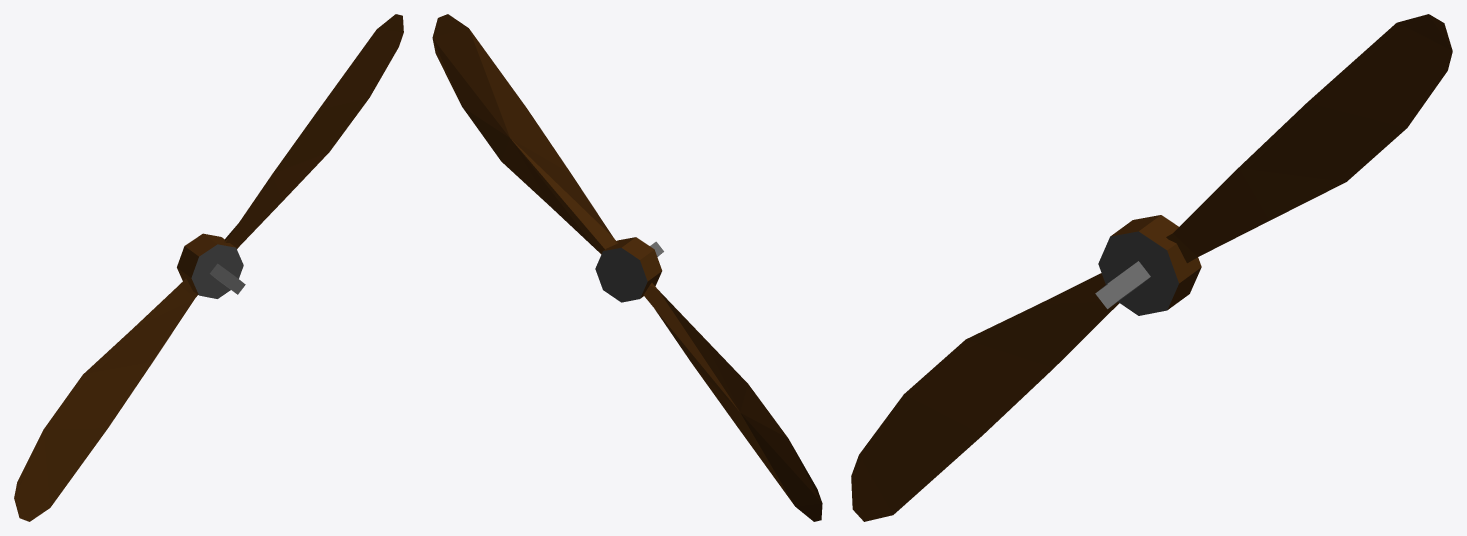
The model's file is Prop_camelF110.obj.
3 views of the same model, side by side, from view 1: azimuth 30°, elevation 25°; view 2: azimuth 150°, elevation 25°; view 3: azimuth 330°, elevation 25° (orthographic). The views are drawn at different scales.
Visible parts, largest first — view 1: ShapeIndexedFaceSet.036_ShapeIndexedFaceSet.037, ShapeIndexedFaceSet.054_ShapeIndexedFaceSet.055, ShapeIndexedFaceSet.053_ShapeIndexedFaceSet.054, ShapeIndexedFaceSet.045_ShapeIndexedFaceSet.046; view 2: ShapeIndexedFaceSet.036_ShapeIndexedFaceSet.037, ShapeIndexedFaceSet.054_ShapeIndexedFaceSet.055, ShapeIndexedFaceSet.053_ShapeIndexedFaceSet.054; view 3: ShapeIndexedFaceSet.036_ShapeIndexedFaceSet.037, ShapeIndexedFaceSet.054_ShapeIndexedFaceSet.055, ShapeIndexedFaceSet.053_ShapeIndexedFaceSet.054, ShapeIndexedFaceSet.045_ShapeIndexedFaceSet.046.
Boxes of the visible parts, left/top/right/bottom form: ShapeIndexedFaceSet.036_ShapeIndexedFaceSet.037: left=14, top=14, right=403, bottom=521; ShapeIndexedFaceSet.054_ShapeIndexedFaceSet.055: left=191, top=244, right=243, bottom=298; ShapeIndexedFaceSet.053_ShapeIndexedFaceSet.054: left=177, top=233, right=235, bottom=294; ShapeIndexedFaceSet.045_ShapeIndexedFaceSet.046: left=210, top=263, right=245, bottom=294; ShapeIndexedFaceSet.036_ShapeIndexedFaceSet.037: left=432, top=14, right=822, bottom=521; ShapeIndexedFaceSet.054_ShapeIndexedFaceSet.055: left=595, top=248, right=647, bottom=302; ShapeIndexedFaceSet.053_ShapeIndexedFaceSet.054: left=603, top=237, right=662, bottom=298; ShapeIndexedFaceSet.036_ShapeIndexedFaceSet.037: left=851, top=14, right=1452, bottom=521; ShapeIndexedFaceSet.054_ShapeIndexedFaceSet.055: left=1098, top=231, right=1178, bottom=315; ShapeIndexedFaceSet.053_ShapeIndexedFaceSet.054: left=1110, top=215, right=1201, bottom=309; ShapeIndexedFaceSet.045_ShapeIndexedFaceSet.046: left=1095, top=261, right=1150, bottom=309.
Bounding box in the file's own units: 18.14 × 18.61 × 2.81.
